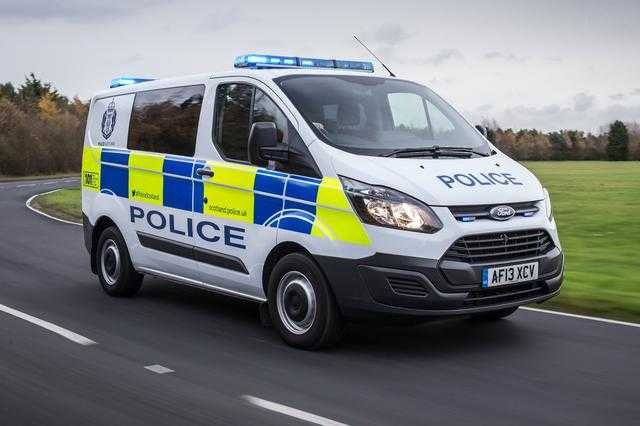van: (81, 51, 565, 351)
